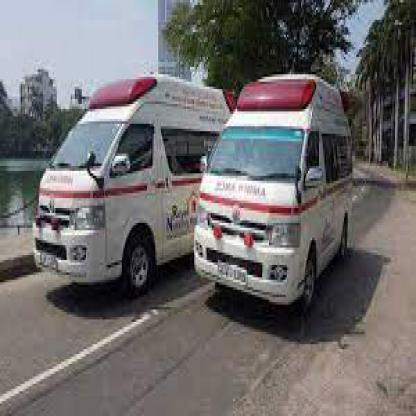van: (36, 69, 234, 300), (190, 70, 362, 314)
